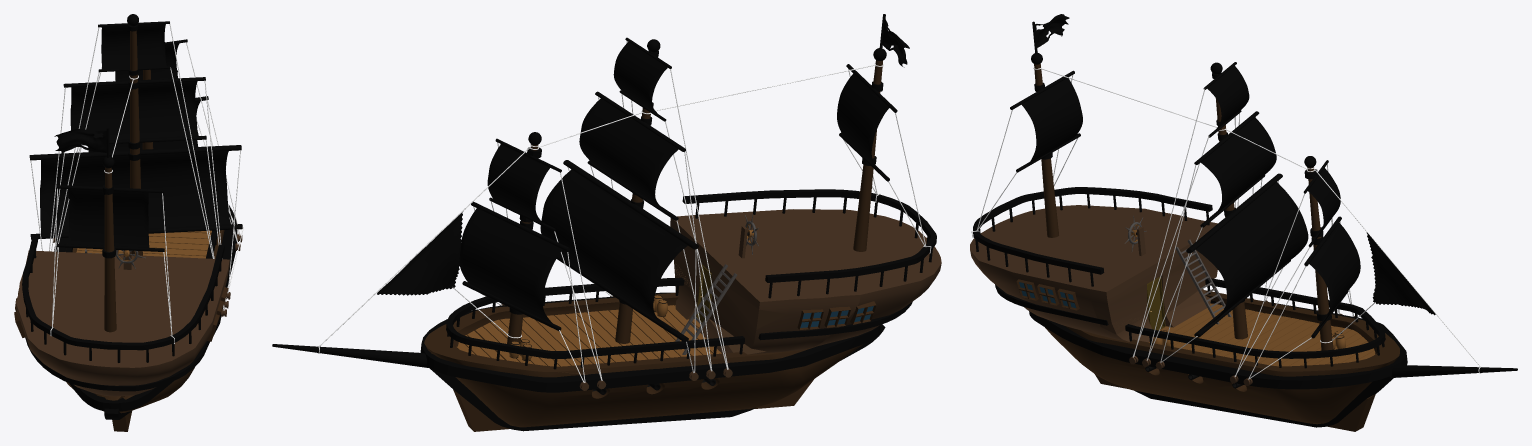
The model's file is white.fbx.
3 renders of one model, left to right at view 1: azimuth 30°, elevation 25°; view 2: azimuth 150°, elevation 25°; view 3: azimuth 270°, elevation 25°, orthographic. The views are drawn at different scales.
Parts seen in each view (by area): view 1: Polygon_Reduction_1__0; view 2: Polygon_Reduction_1__0; view 3: Polygon_Reduction_1__0.
Boxes of the visible parts, x1,y1,x2,y2 form: Polygon_Reduction_1__0: (14, 14, 243, 431); Polygon_Reduction_1__0: (272, 14, 941, 431); Polygon_Reduction_1__0: (970, 14, 1517, 431).
Size of what is drawn, in the model's own units: 4.69 by 4.3 by 6.07.
